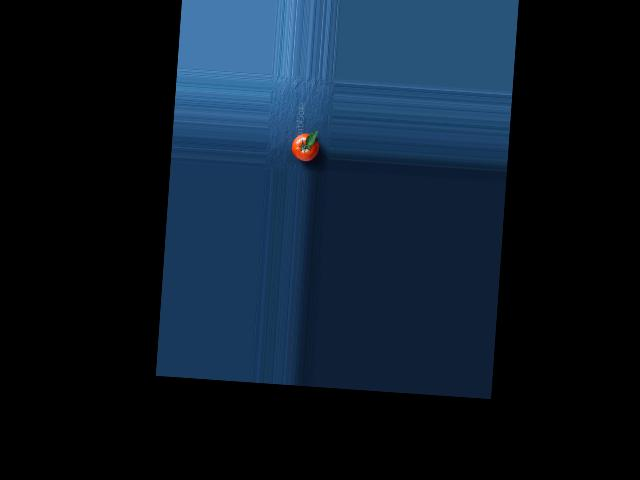tomato: (291, 132, 319, 162)
